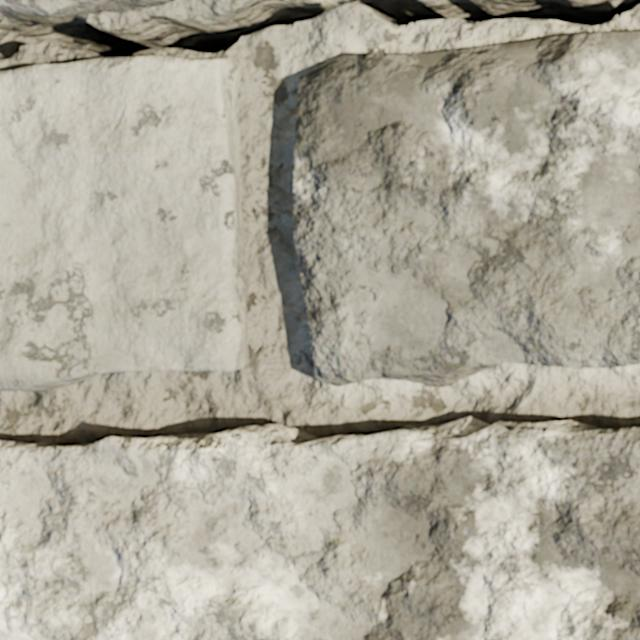brick: (0, 417, 639, 639), (0, 56, 247, 390), (0, 0, 173, 15)
broken_brick: (293, 30, 639, 387)
crack: (0, 0, 639, 61), (608, 37, 639, 42)
